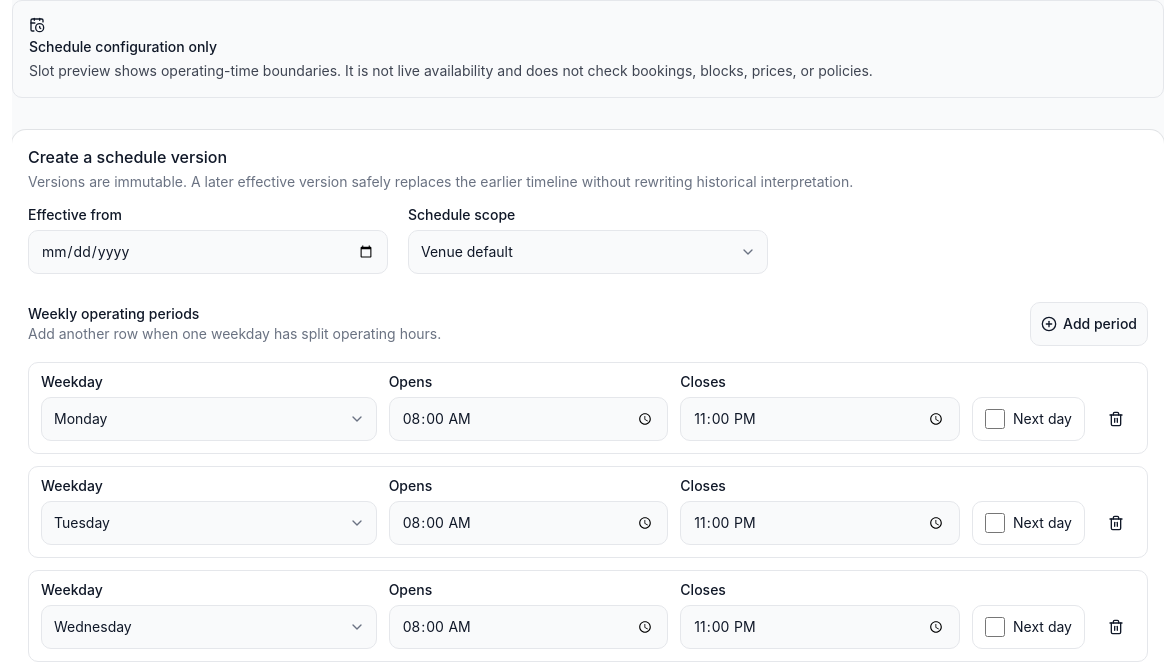
Test: ScheduleSetup › preserves schedule input and offers recovery after a server validation error
This screenshot has width=1164, height=668.
Type "2026-07-27" into the date field labelled "Effective from" at (208, 252), box [28,230,388,274]
(page scrolled)
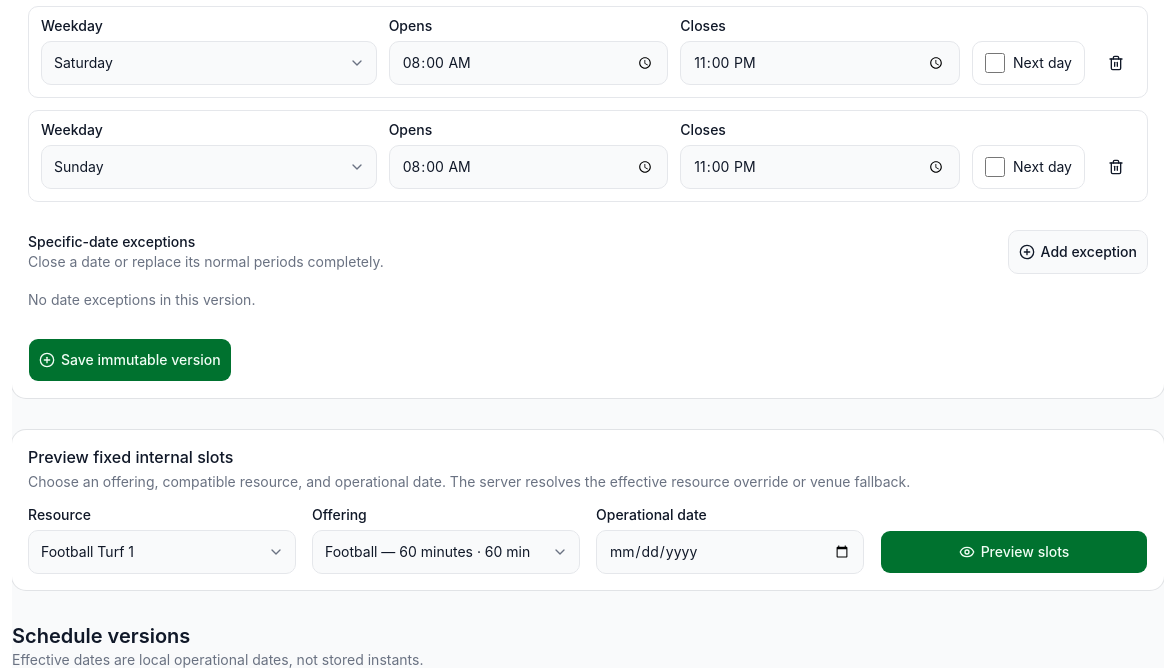
Click the button "Save immutable version" at (130, 360), box [28,338,232,382]
(page scrolled)
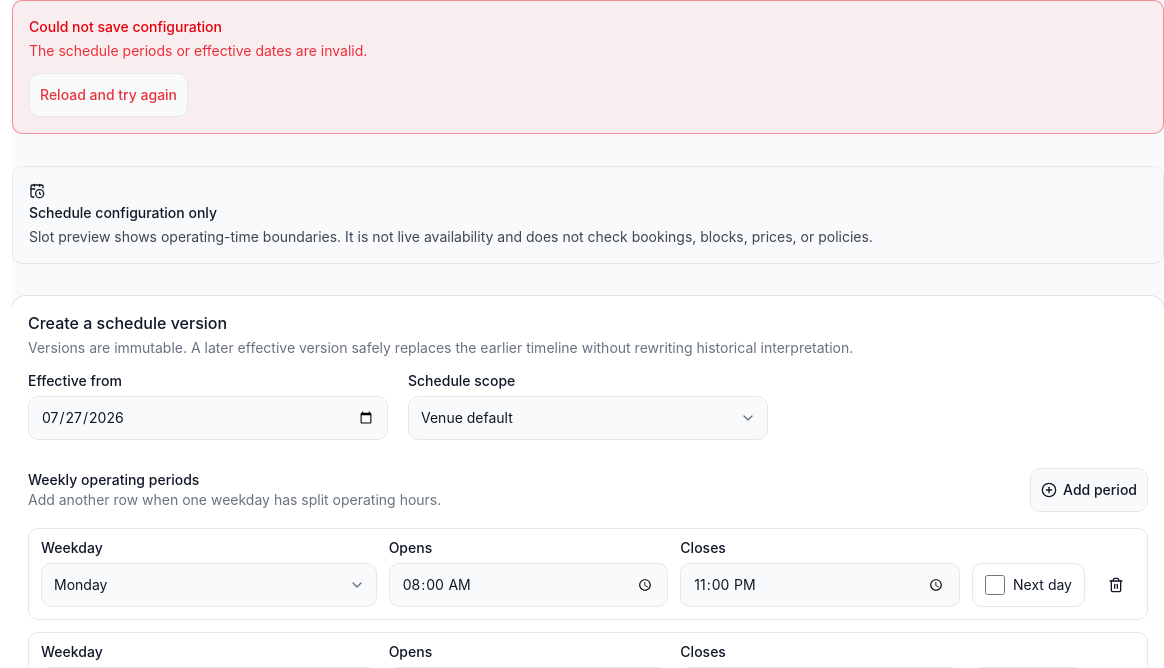
Now the text "The schedule periods or effective dates are invalid." is shown, box [29,42,367,59]
Now the button "Reload and try again" is shown, box [29,73,188,117]
